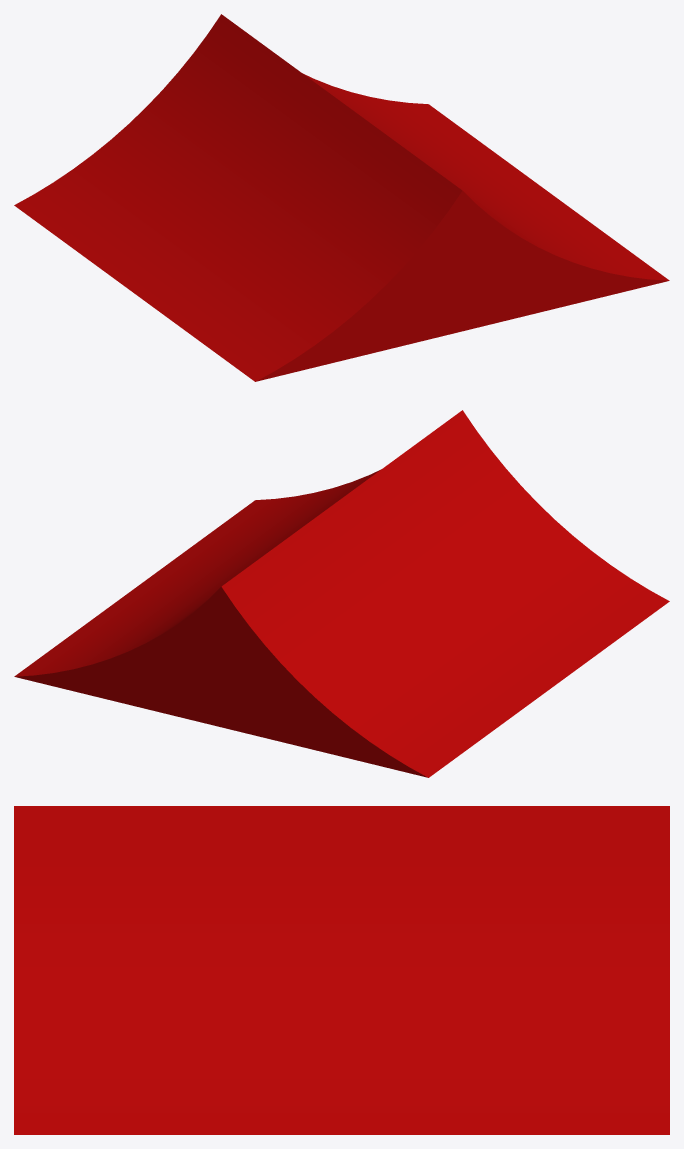
File: Ramp.FBX
3 renders of one model, top to bottom at view 1: azimuth 30°, elevation 25°; view 2: azimuth 150°, elevation 25°; view 3: azimuth 270°, elevation 25°, orthographic. The views are drawn at different scales.
Parts seen in each view (by area): view 1: Layer0_001; view 2: Layer0_001; view 3: Layer0_001.
Part boxes in pixels (x1=…): Layer0_001: x1=14, y1=14, x2=669, y2=381; Layer0_001: x1=14, y1=410, x2=669, y2=777; Layer0_001: x1=14, y1=806, x2=669, y2=1134.
Bounding box in the file's own units: 235 × 76.2 × 237.
